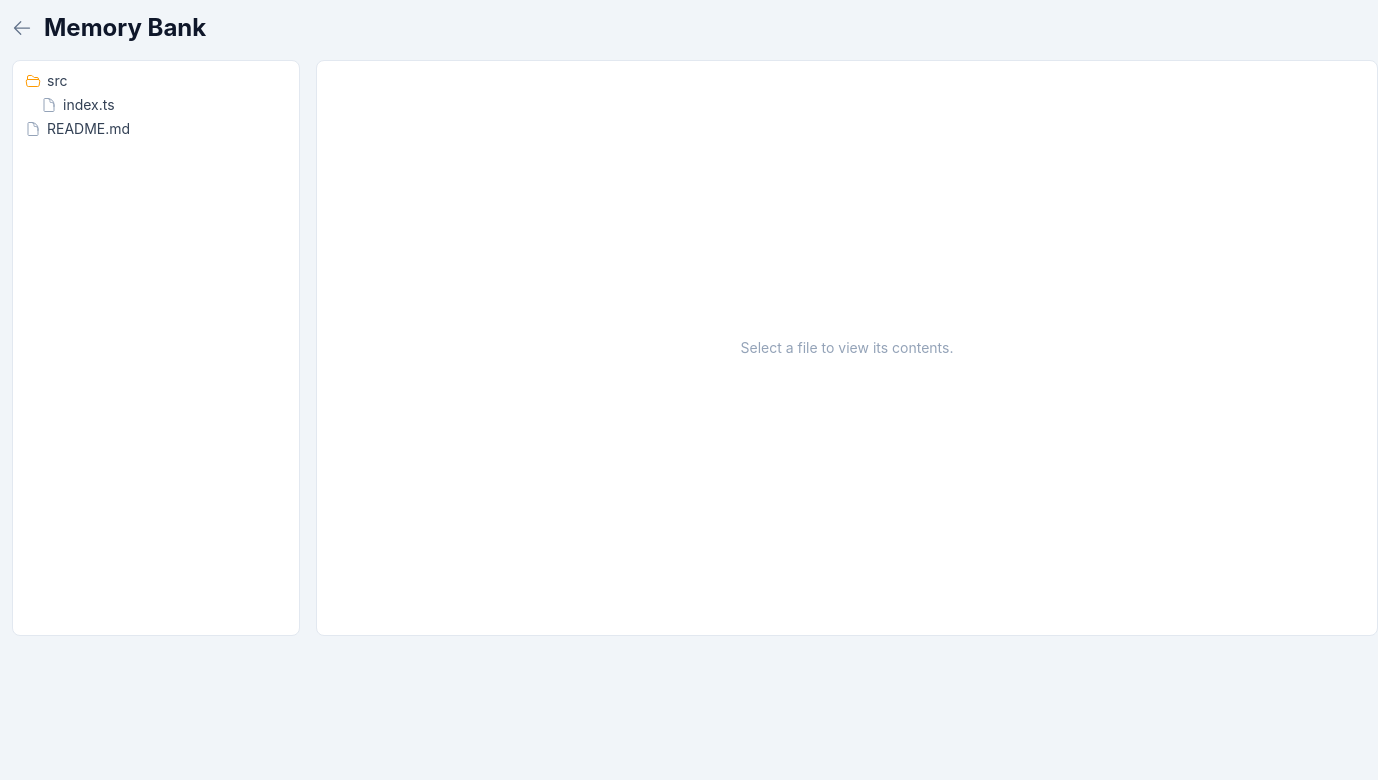
Scenario: GitTemplateFilesView › renders code files as raw text in a <pre> block (no markdown rendering)
Step 1. Click the button "index.ts" → (89,104), box [21,93,291,117]
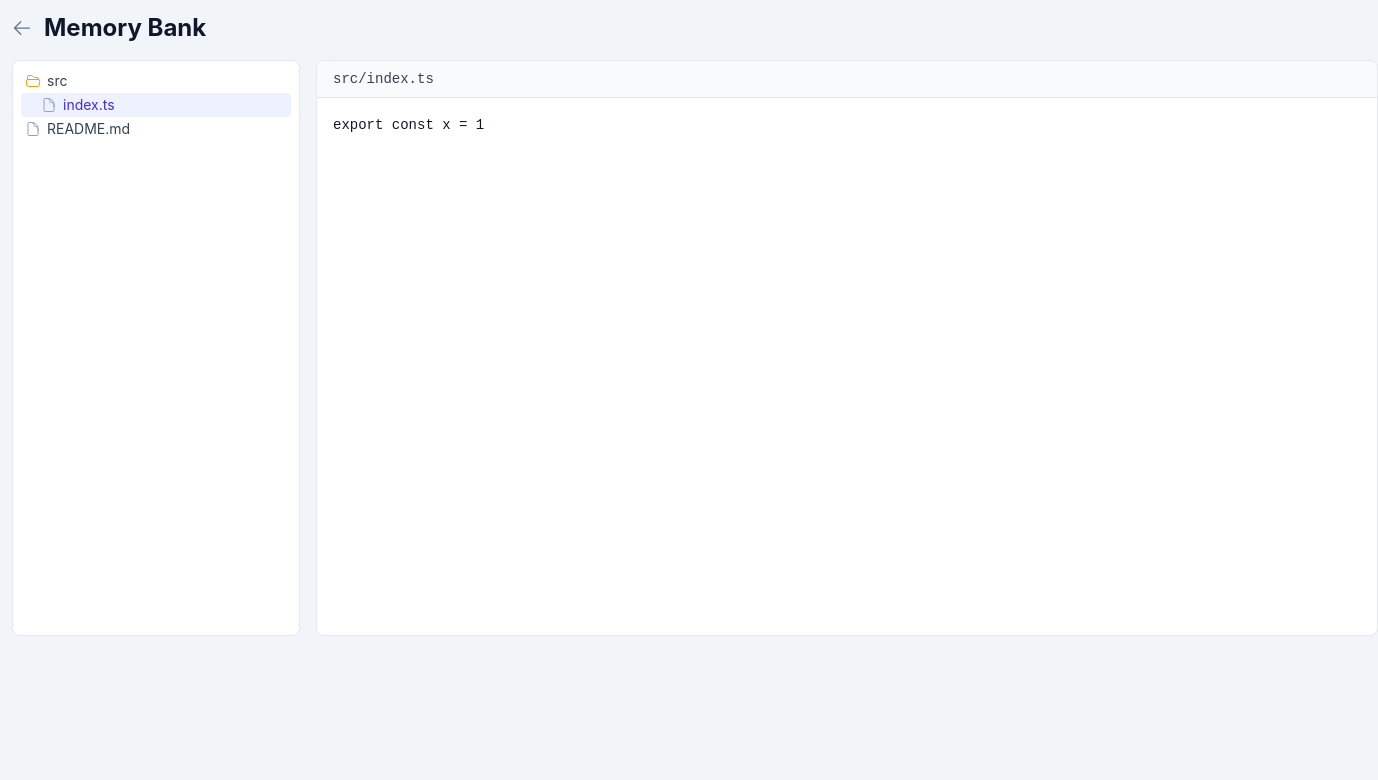
Now the text "export const x = 1" is shown, box [333,117,484,133]
